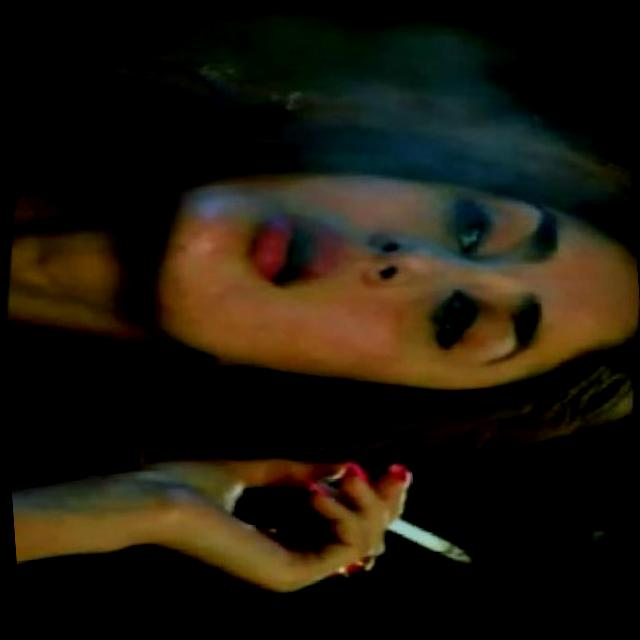smoke: (292, 465, 481, 579)
